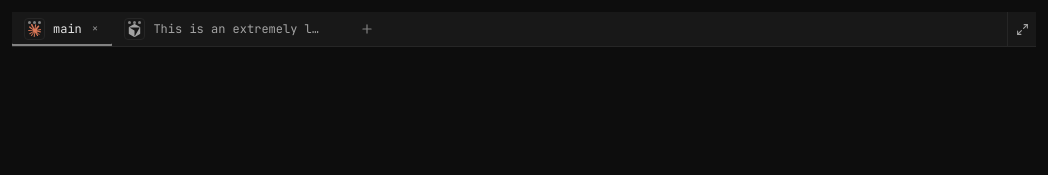
Test: TabsStrip › 3.T1 — the reset popup renders the FULL name (wrapping, not truncated)
The image size is (1048, 175).
Right-click the tab "extremely long session name": (232, 30) [112,12,352,47]
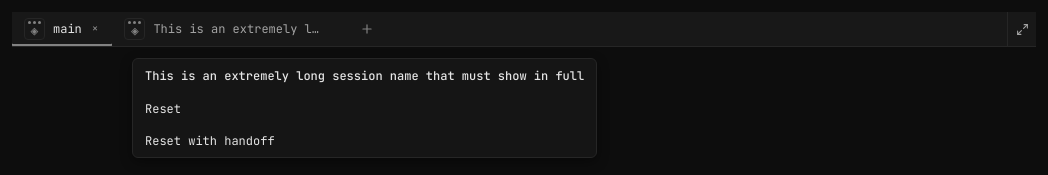
Check: the text with class "menu-pop__title" reads "This is an extremely long session name that must show in full", box [145,68,584,84]
